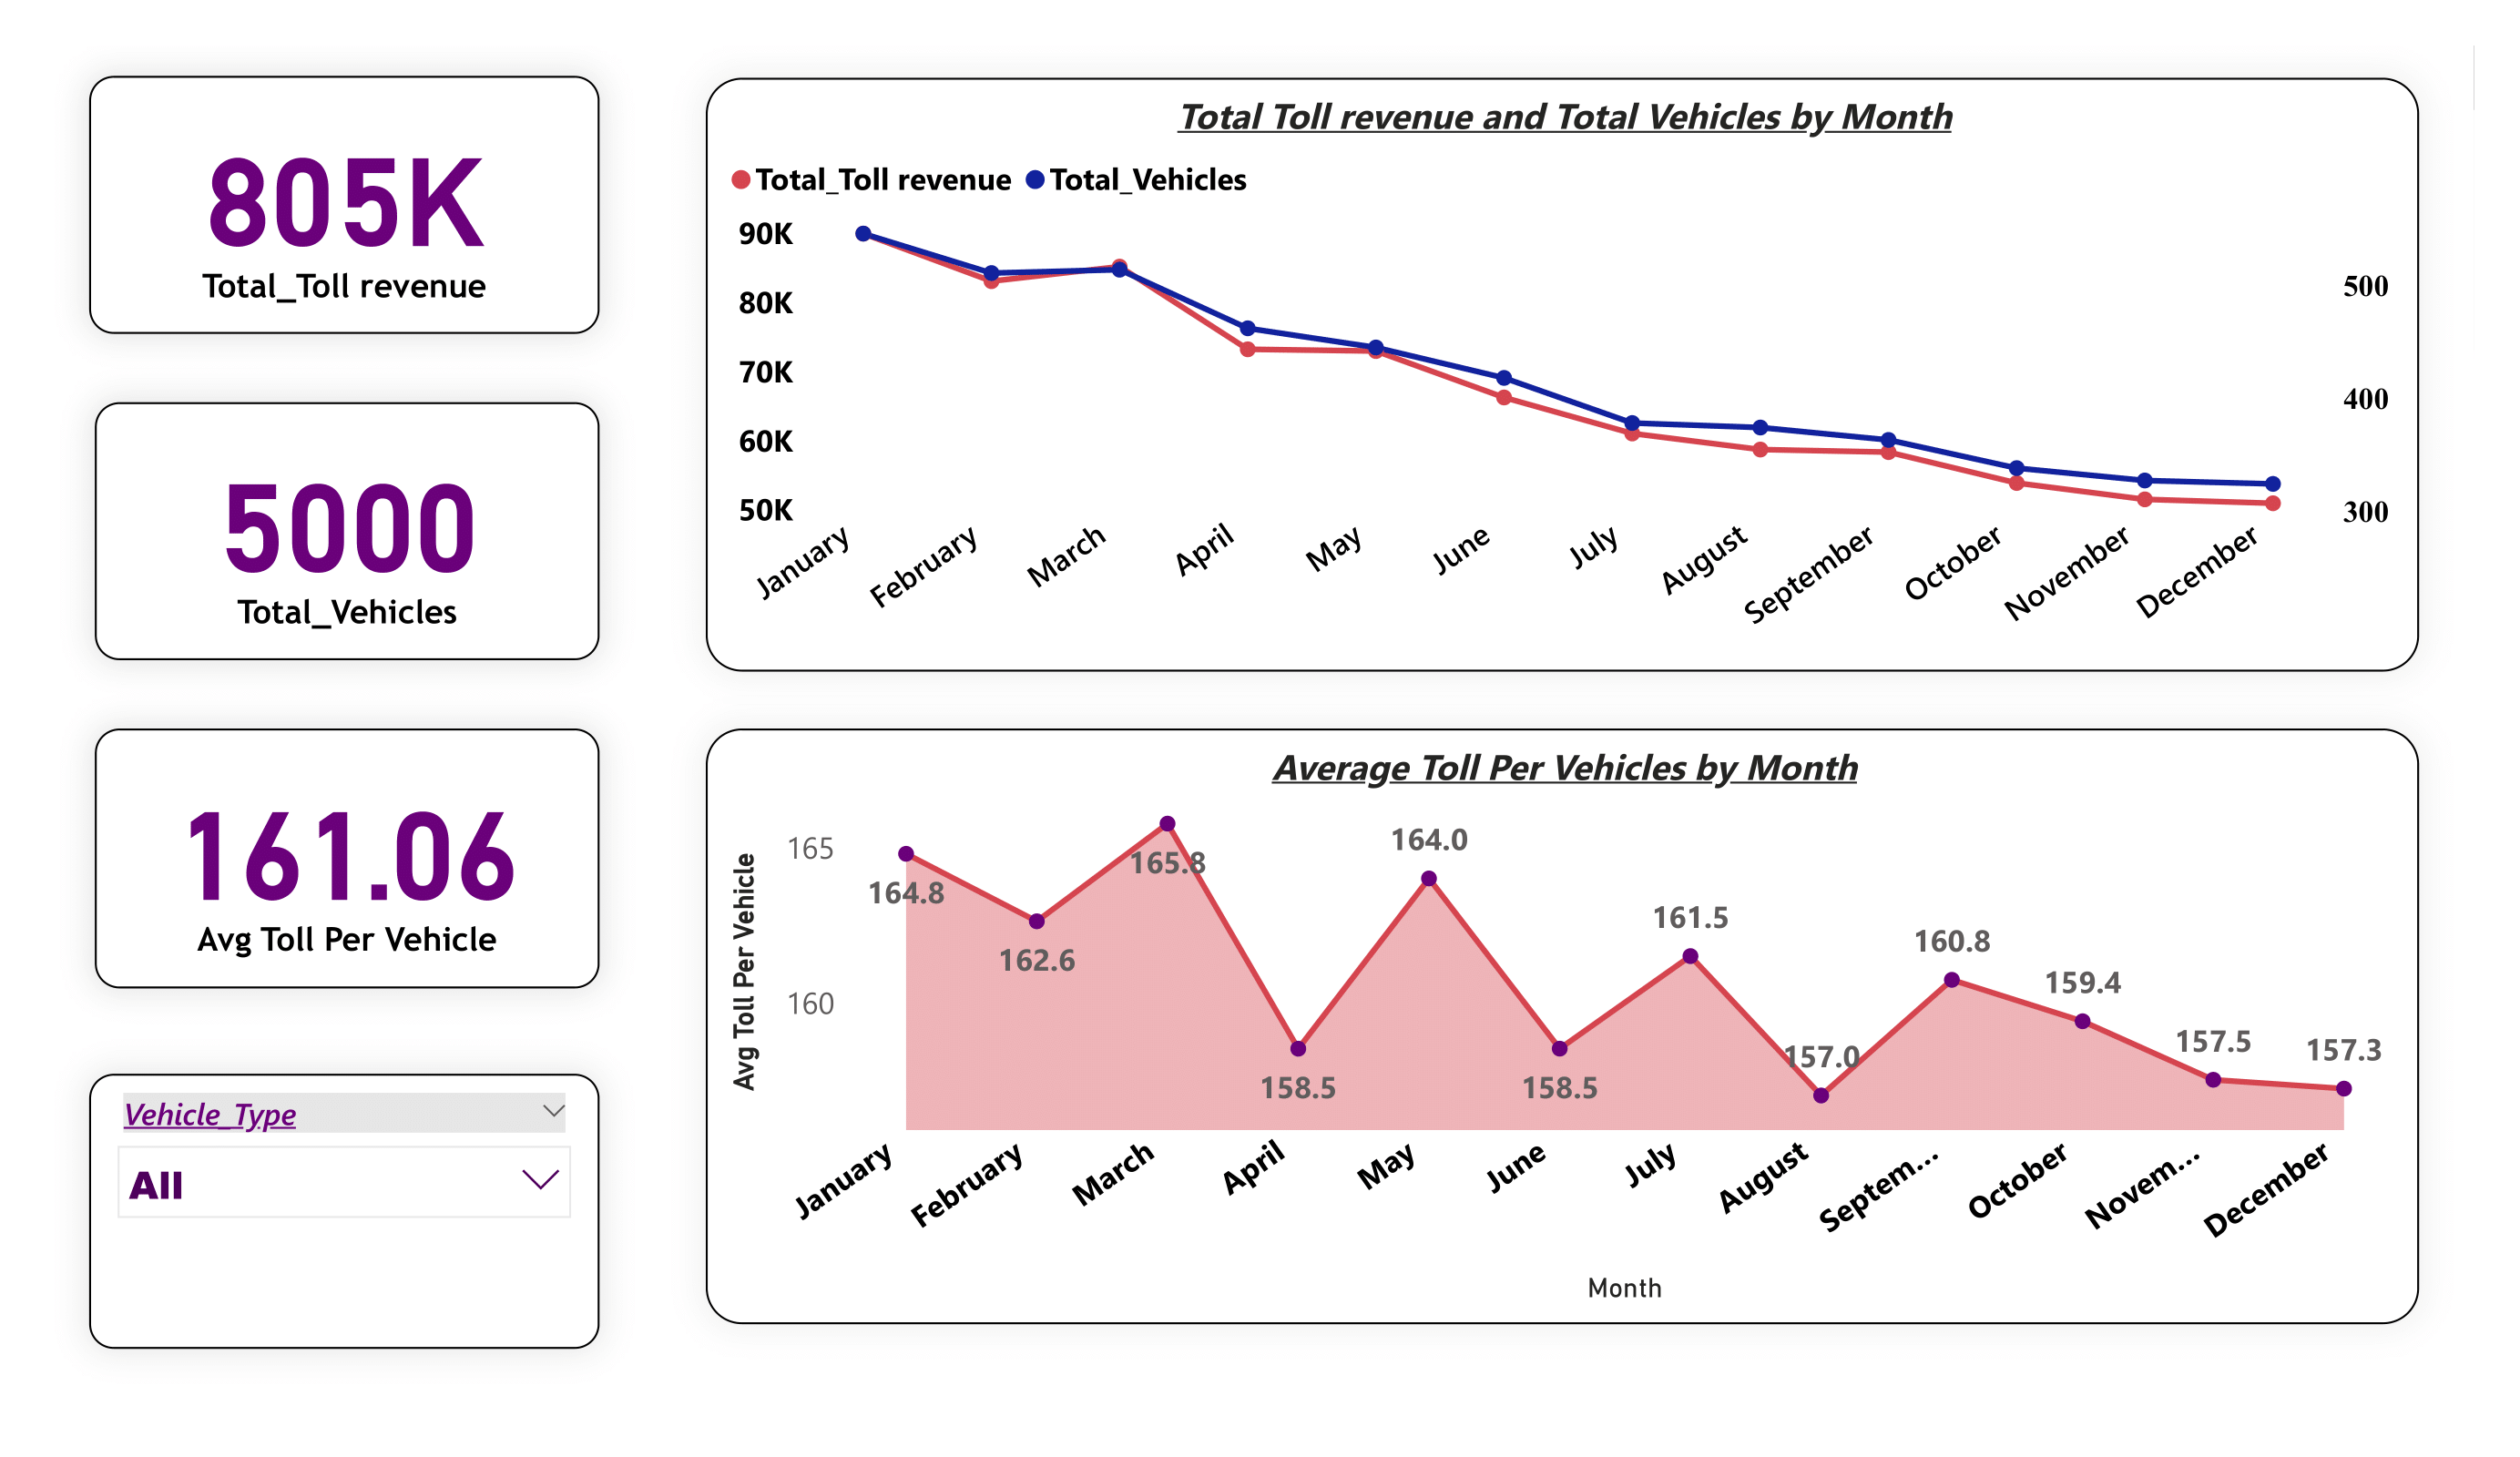

This screenshot's page, from the dashboard's own definition file:
{"tool":"powerbi","page":{"name":"Page 1","canvas":[1280,720],"ordinal":0},"visuals":[{"type":"card","fields":{"Values":["Measure Table.Total_Toll"]},"box":[23.4,16.1,268.9,135.9],"z":0},{"type":"card","fields":{"Values":["Measure Table.Total_Vehicles"]},"box":[25.7,187.8,266.5,136.3],"z":1000},{"type":"lineChart","title":"Total Toll revenue and Total Vehicles by Month","fields":{"Category":["FastagFraudDetection.TimeStamp.Variation.Date Hierarchy.Month"],"Y":["Measure Table.Total_Toll revenue"],"Y2":["Measure Table.Total_Vehicles"]},"box":[348.3,16.7,902.5,313.4],"z":2000},{"type":"card","fields":{"Values":["Measure Table.Avg_Toll_Per_Vehicle"]},"box":[25.7,360.4,266.5,136.3],"z":3000},{"type":"lineChart","title":"Average Toll Per Vehicles by Month","fields":{"Category":["FastagFraudDetection.TimeStamp.Variation.Date Hierarchy.Month"],"Y":["Measure Table.Avg Toll Per Vehicle"]},"box":[348.3,360.4,902.5,313.4],"z":4000},{"type":"slicer","fields":{"Values":["FastagFraudDetection.Vehicle_Type"]},"box":[22.7,542.1,269.5,145.4],"z":6000}]}

Visuals, with their boxes in screenshot pixels (x1, y1, x2, y2):
card - Measure Table.Total_Toll: [x1=90, y1=76, x2=600, y2=334]
card - Measure Table.Total_Vehicles: [x1=95, y1=402, x2=600, y2=660]
"Total Toll revenue and Total Vehicles by Month" lineChart: [x1=707, y1=77, x2=2419, y2=672]
card - Measure Table.Avg_Toll_Per_Vehicle: [x1=95, y1=729, x2=600, y2=988]
"Average Toll Per Vehicles by Month" lineChart: [x1=707, y1=729, x2=2419, y2=1324]
slicer - FastagFraudDetection.Vehicle_Type: [x1=88, y1=1074, x2=600, y2=1350]
